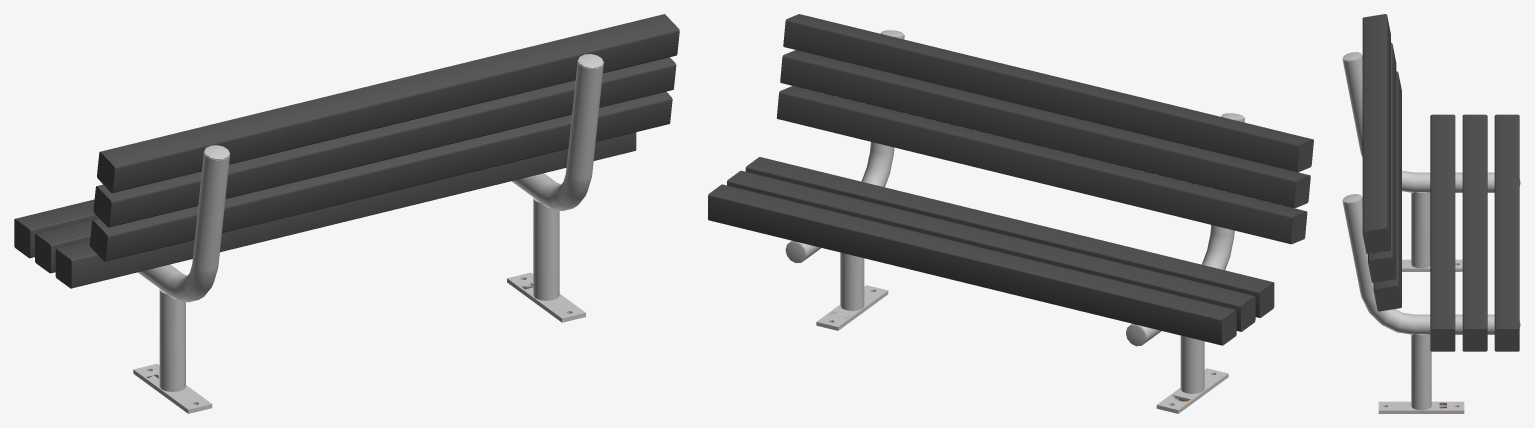
3 views of the same model, side by side, from view 1: azimuth 30°, elevation 25°; view 2: azimuth 150°, elevation 25°; view 3: azimuth 270°, elevation 25° (orthographic). The views are drawn at different scales.
Visible parts, largest first — view 1: mesh21_mesh21-geometry, mesh5_mesh5-geometry, mesh4_mesh4-geometry, mesh3_mesh3-geometry, mesh1_mesh1-geometry; view 2: mesh21_mesh21-geometry, mesh4_mesh4-geometry, mesh5_mesh5-geometry, mesh3_mesh3-geometry, mesh2_mesh2-geometry; view 3: mesh21_mesh21-geometry, mesh5_mesh5-geometry, mesh4_mesh4-geometry, mesh3_mesh3-geometry, mesh1_mesh1-geometry.
Boxes of the visible parts, x1=… form: mesh21_mesh21-geometry: x1=14, y1=14, x2=679, y2=288; mesh5_mesh5-geometry: x1=138, y1=60, x2=603, y2=302; mesh4_mesh4-geometry: x1=159, y1=198, x2=559, y2=391; mesh3_mesh3-geometry: x1=133, y1=272, x2=585, y2=413; mesh1_mesh1-geometry: x1=204, y1=54, x2=603, y2=159; mesh21_mesh21-geometry: x1=708, y1=14, x2=1313, y2=345; mesh4_mesh4-geometry: x1=840, y1=252, x2=1204, y2=393; mesh5_mesh5-geometry: x1=786, y1=33, x2=1244, y2=346; mesh3_mesh3-geometry: x1=816, y1=285, x2=1228, y2=413; mesh2_mesh2-geometry: x1=785, y1=242, x2=1145, y2=345; mesh21_mesh21-geometry: x1=1362, y1=14, x2=1519, y2=351; mesh5_mesh5-geometry: x1=1342, y1=55, x2=1494, y2=334; mesh4_mesh4-geometry: x1=1411, y1=192, x2=1431, y2=410; mesh3_mesh3-geometry: x1=1378, y1=259, x2=1464, y2=413; mesh1_mesh1-geometry: x1=1342, y1=52, x2=1361, y2=203.
Bounding box in the file's own units: 0.8617 × 0.4071 × 0.3027.
